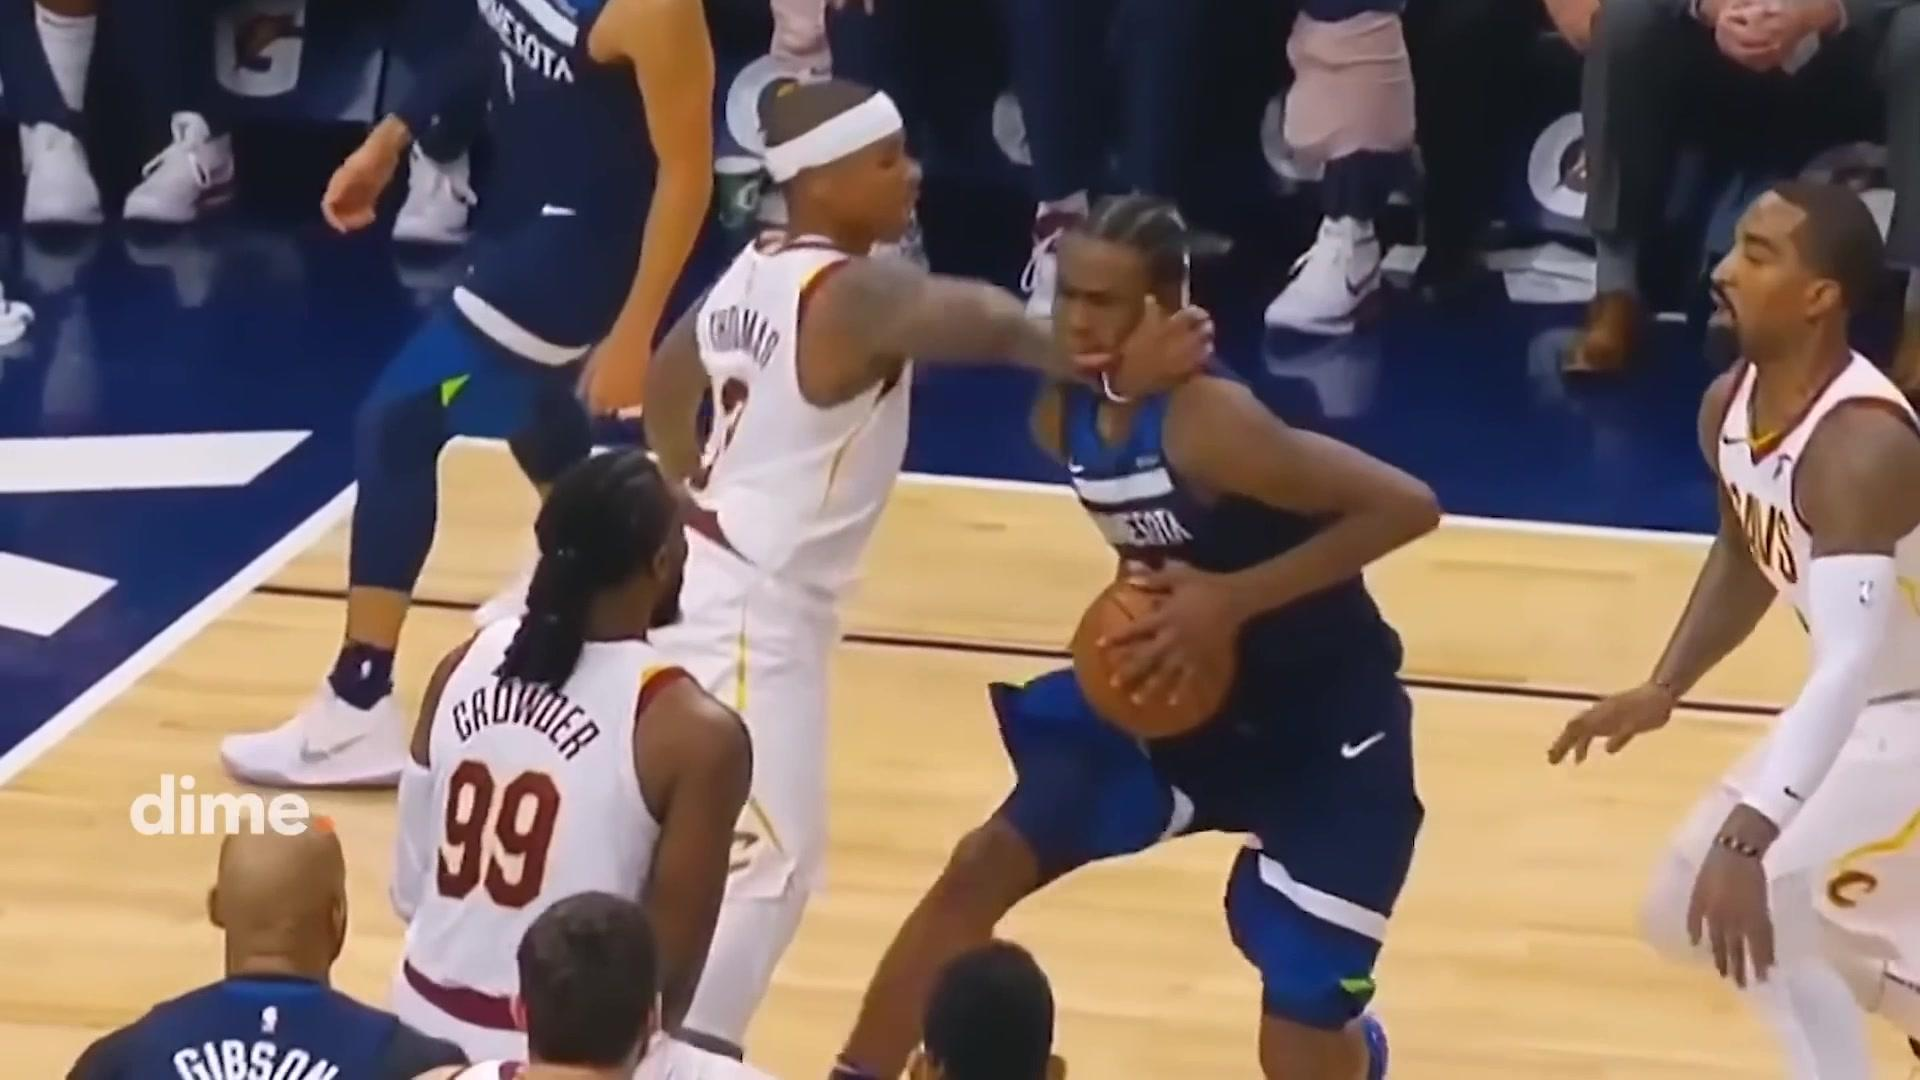foul: (662, 91, 1436, 1080)
